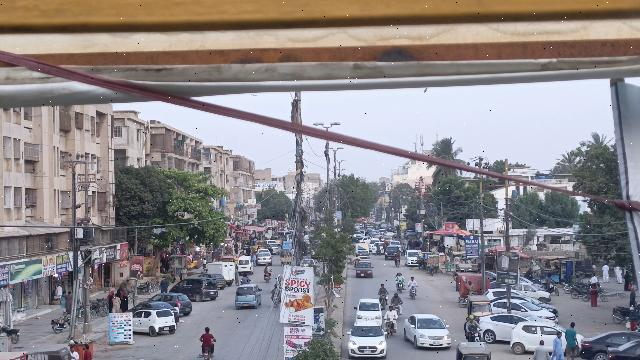Bike: (382, 318, 398, 339), (199, 345, 218, 360), (407, 284, 420, 301), (466, 330, 483, 342), (378, 292, 390, 309), (395, 279, 407, 293), (392, 302, 402, 315)
Car: (509, 318, 570, 352), (402, 311, 453, 351), (477, 312, 538, 343), (345, 321, 389, 360), (581, 327, 630, 360), (131, 308, 177, 338), (167, 276, 219, 302), (153, 291, 193, 317), (604, 337, 640, 360), (353, 296, 384, 322), (234, 284, 263, 310)
Person: (564, 321, 581, 360), (549, 329, 567, 359), (529, 337, 551, 360), (199, 327, 217, 347), (465, 314, 480, 332), (384, 305, 396, 319), (407, 274, 418, 287), (378, 283, 389, 295), (396, 272, 404, 282)
Rickshaw: (466, 294, 491, 316)
